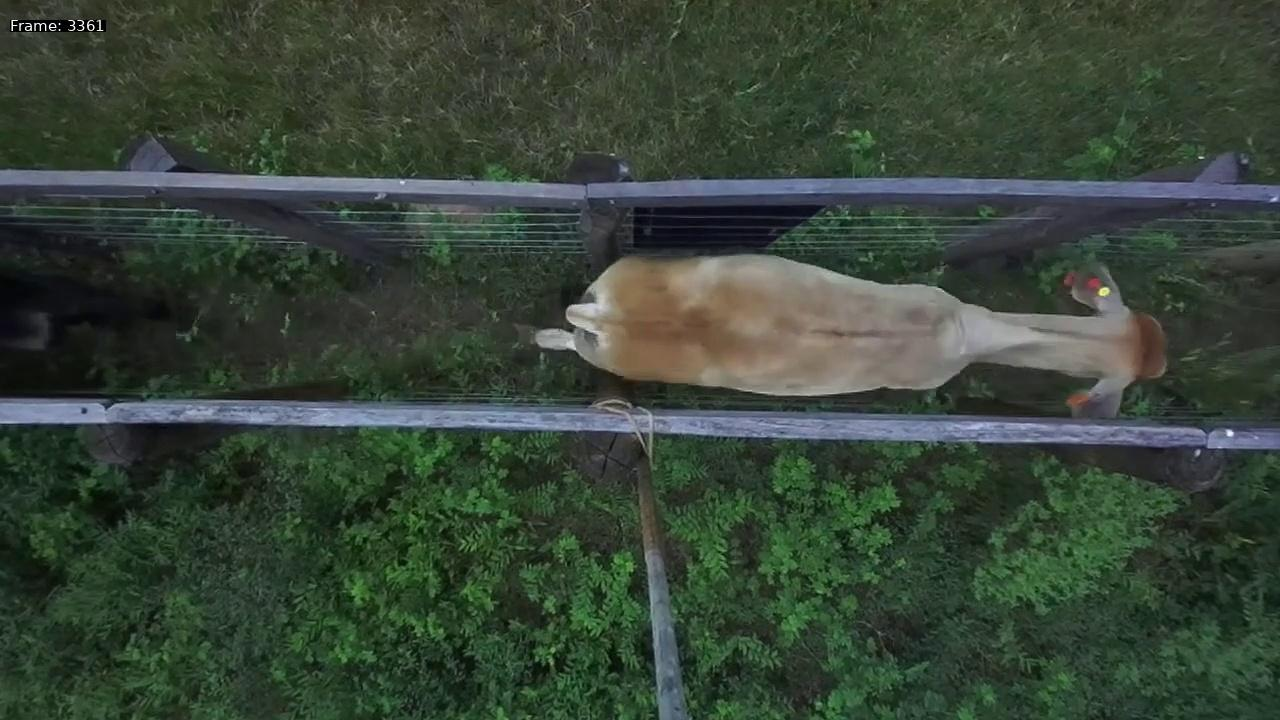cattle: (528, 237, 1174, 439)
